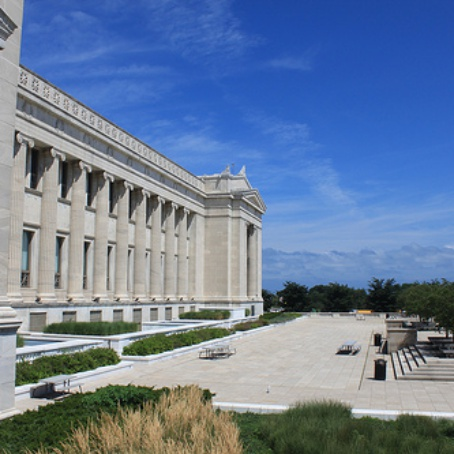building: (1, 63, 276, 354)
sky: (55, 1, 446, 267)
vegetation: (19, 387, 454, 454), (279, 280, 454, 313)
